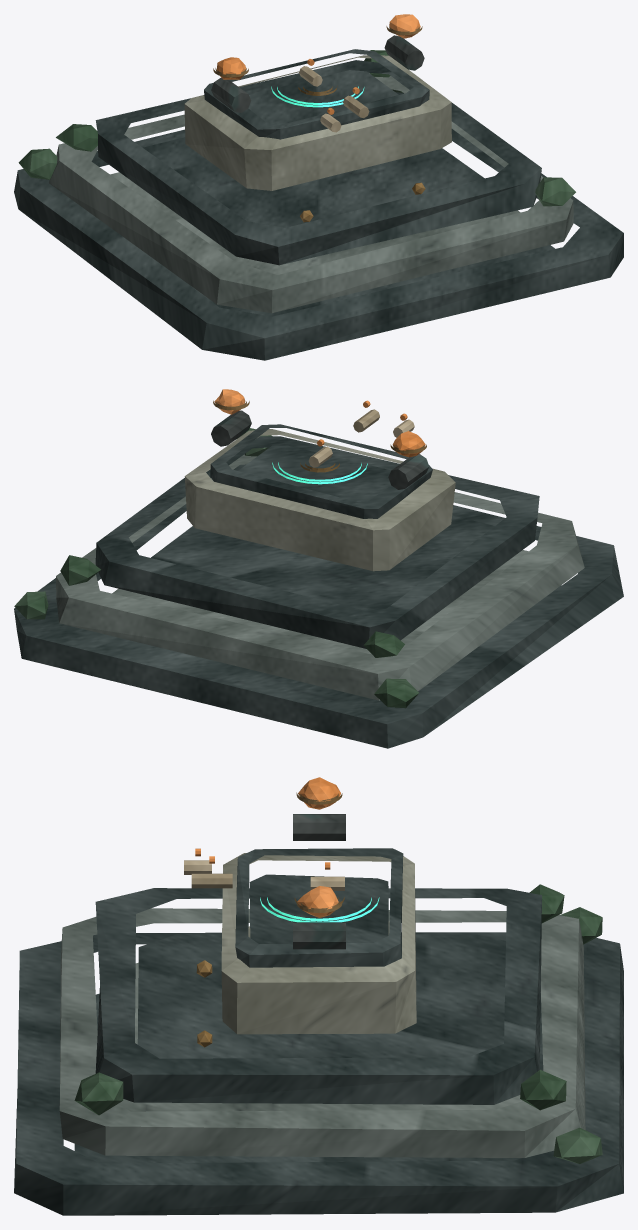
The model's file is 0459_altar_09.glb.
3 views of the same model, one above another, from view 1: azimuth 30°, elevation 25°; view 2: azimuth 150°, elevation 25°; view 3: azimuth 270°, elevation 25° (orthographic). The views are drawn at different scales.
Visible parts, largest first — view 1: stone_dark, stone, stone_light, moss, iron, amber, bone, brass; view 2: stone_dark, stone, stone_light, moss, iron, amber, bone, brass; view 3: stone_dark, stone, stone_light, moss, iron, amber, bone, brass, glow.
Part boxes in pixels (x1,y1,x2,y2): stone_dark: (14,49,623,360); stone: (49,73,573,313); stone_light: (184,55,451,190); moss: (18,50,575,206); iron: (211,35,424,112); amber: (217,14,420,114); bone: (299,66,369,132); brass: (213,26,425,222); stone_dark: (14,424,623,748); stone: (56,454,584,700); stone_light: (184,429,455,571); moss: (14,428,418,708); iron: (211,410,429,489); amber: (214,389,425,457); bone: (308,409,414,467); brass: (213,400,426,472); stone_dark: (14,848,623,1215); stone: (59,908,585,1157); stone_light: (221,853,416,1034); moss: (74,884,602,1163); iron: (293,814,345,949); amber: (195,777,340,917); bone: (184,860,344,890); brass: (196,792,344,1047); glow: (260,897,379,922).
Size of the model in its own units: 2.76 by 1.27 by 2.76.
Materials: 9 (9 with a texture image).
